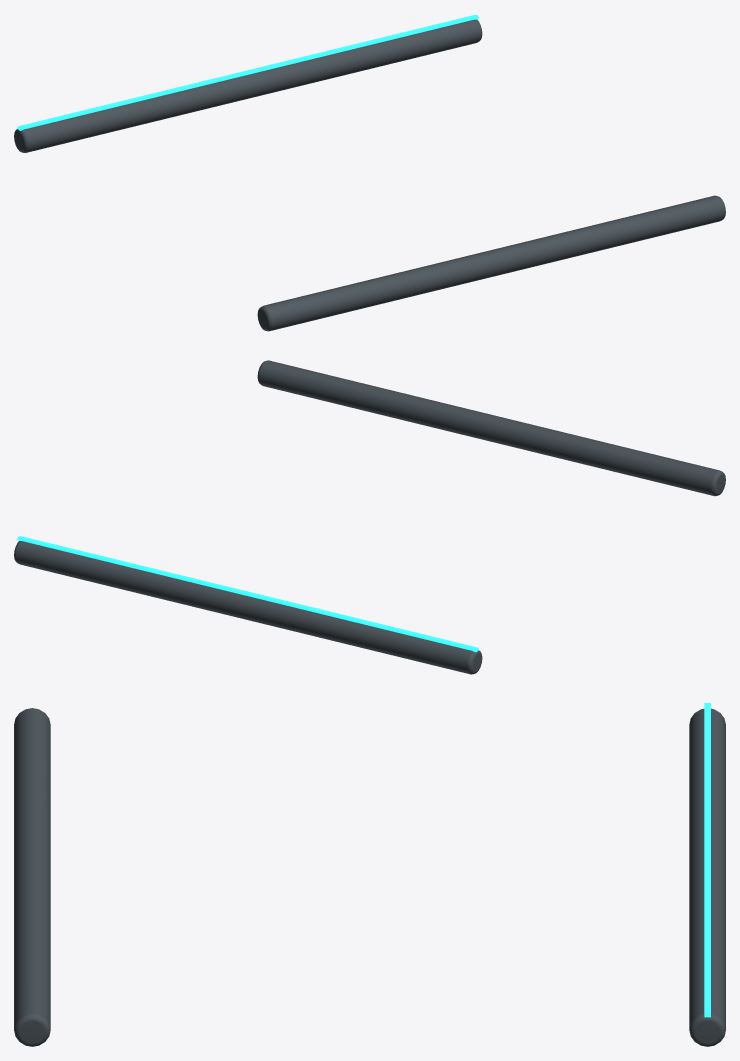
Rendered from SM_PowerCableSpan.fbx.
3 views of the same model, one above another, from view 1: azimuth 30°, elevation 25°; view 2: azimuth 150°, elevation 25°; view 3: azimuth 270°, elevation 25° (orthographic). The views are drawn at different scales.
Visible parts, largest first — view 1: SM_PowerCableSpan; view 2: SM_PowerCableSpan; view 3: SM_PowerCableSpan.
Boxes of the visible parts, box(x1,y1,x2,y2) form: SM_PowerCableSpan: box(14, 14, 725, 331); SM_PowerCableSpan: box(14, 360, 725, 674); SM_PowerCableSpan: box(14, 703, 725, 1046).
Bounding box in the file's own units: 100 × 97 × 5.4.
